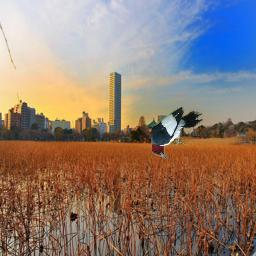Woodpecker: (151, 107, 203, 159)
